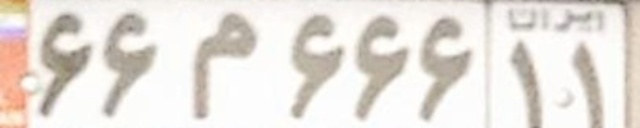1: (567, 43, 607, 127), (508, 44, 542, 127)
6: (35, 13, 90, 116), (103, 13, 157, 116), (289, 14, 340, 117), (422, 16, 471, 121), (357, 15, 404, 118)
mim: (190, 12, 260, 119)
